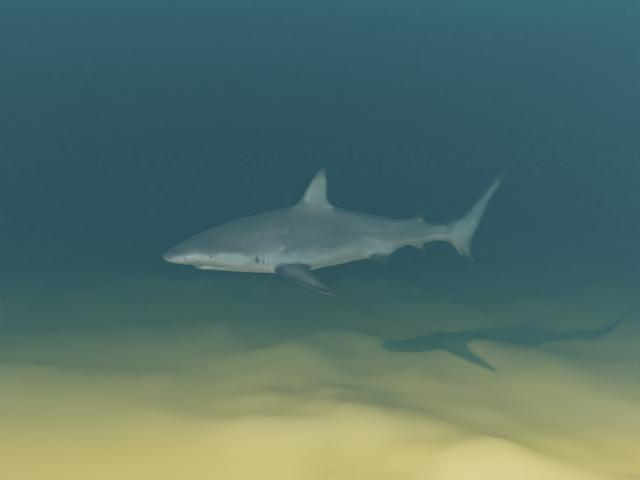Carribean Shark.001: (162, 167, 506, 295)
